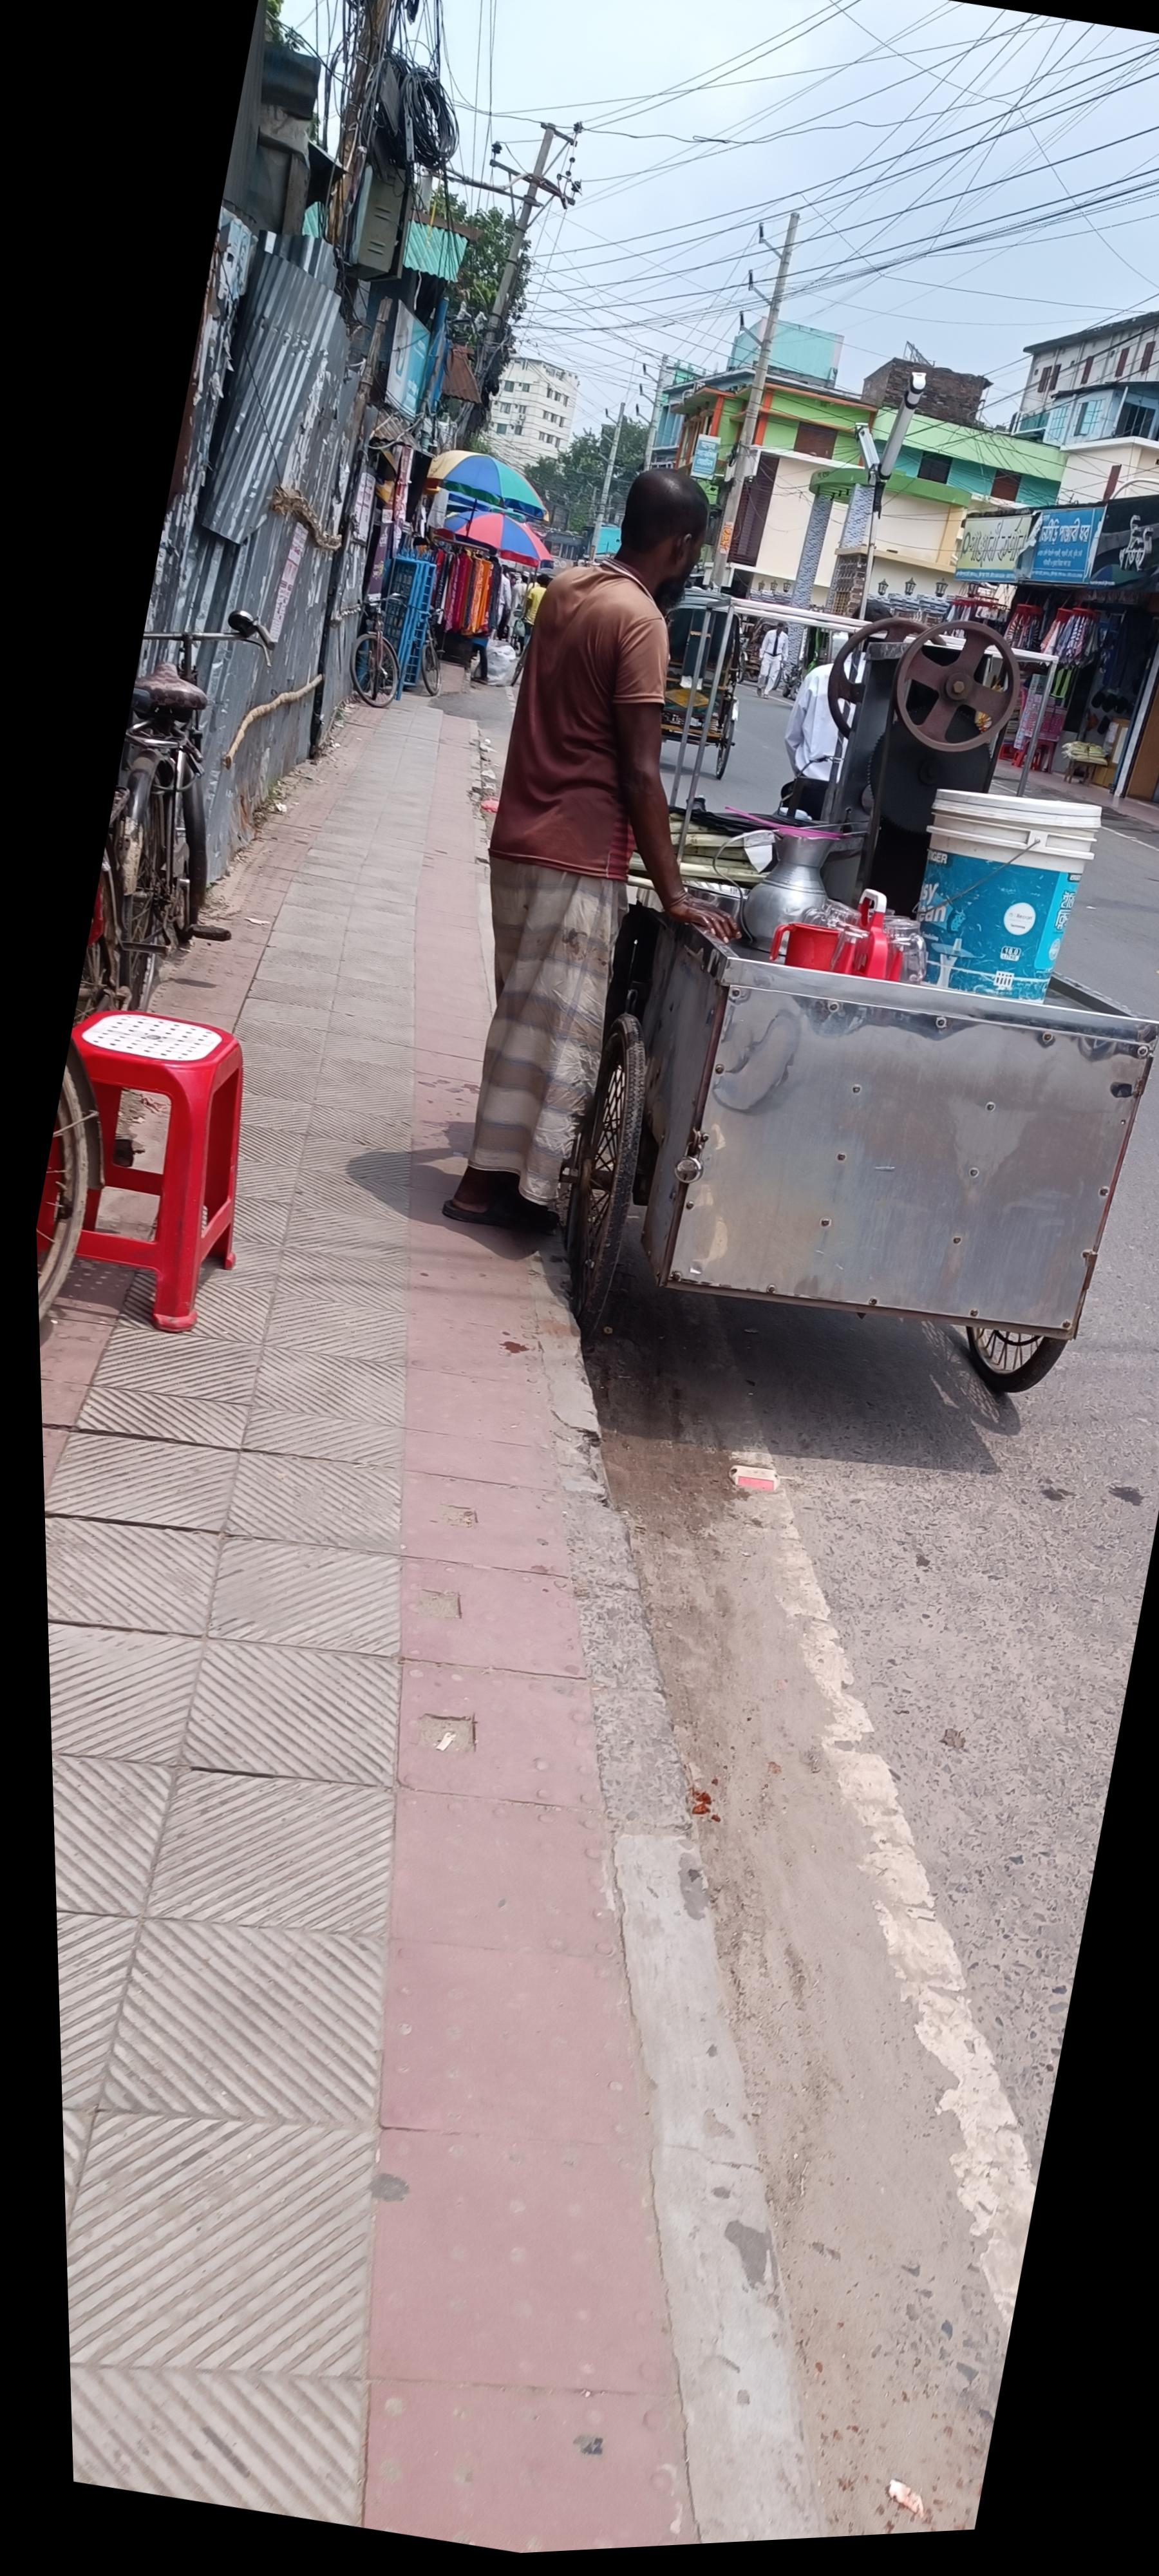Garbage: (790, 450, 1159, 1393), (274, 849, 593, 1245)
Garbage-bin: (660, 347, 1100, 1178)
Pothole: (25, 493, 1103, 2477)
